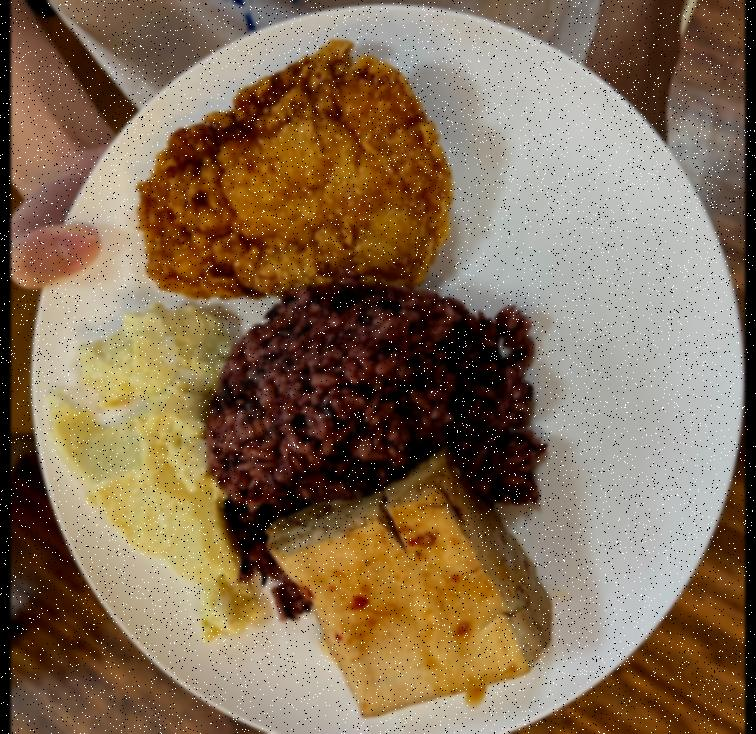kara chicken leg steak: (135, 43, 449, 310)
plate: (33, 2, 745, 734)
purple rice: (197, 290, 548, 571)
side dish: (260, 447, 560, 720), (36, 296, 268, 638)
